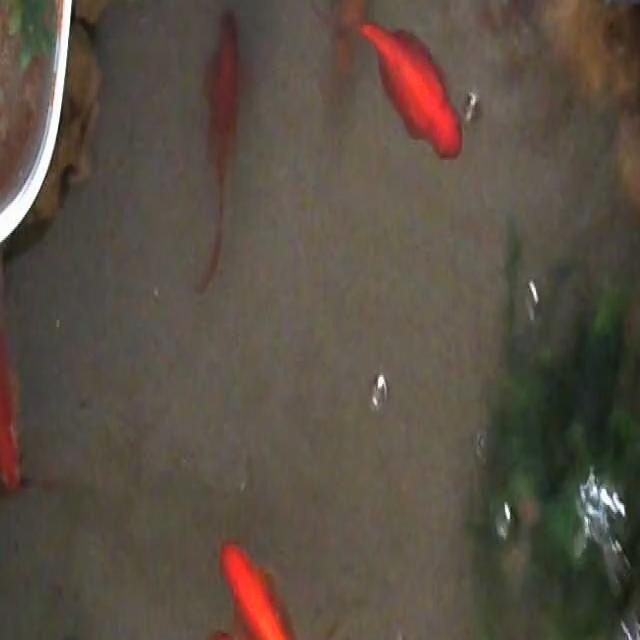fish: (344, 17, 464, 161), (204, 535, 358, 640), (193, 0, 242, 295), (311, 0, 367, 110), (0, 245, 21, 489), (0, 432, 26, 500)
